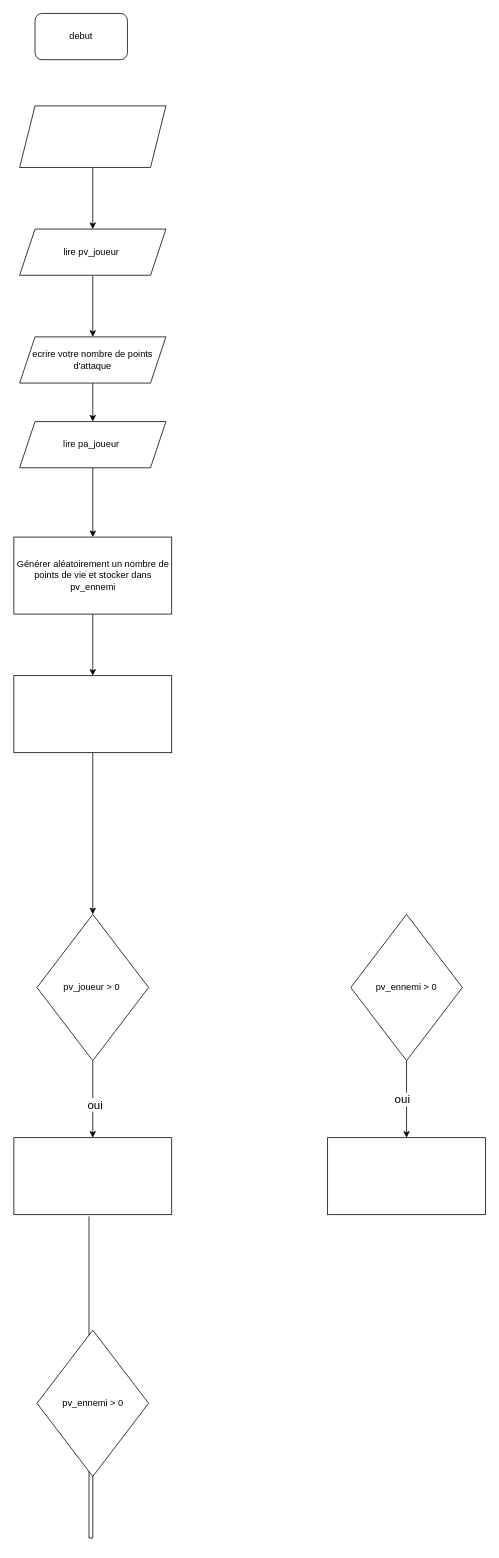
This 499x1558 diagram has some shape labels left out. The box of each missing label's shape, as (x1, y1, x2, y2) in pixels:
ecrire votre nombre de points de vie: (19, 105, 166, 167)
Générer aléatoirement un nombre de points d’attaque et stocker dans pa_ennemi: (13, 675, 172, 753)
pv_ennemi = pa_ennemi - pa_joueur: (13, 1137, 172, 1215)
pv_joueur = pv_joueur - pa_ennemi: (327, 1137, 485, 1215)
